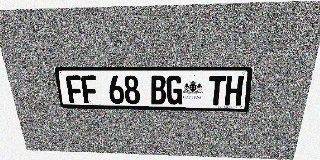6: (107, 75, 125, 104)
8: (123, 75, 140, 104)
B: (150, 75, 166, 104)
F: (65, 75, 84, 103), (80, 75, 99, 103)
G: (167, 75, 183, 105)
H: (224, 75, 244, 105)
T: (208, 75, 226, 105)
